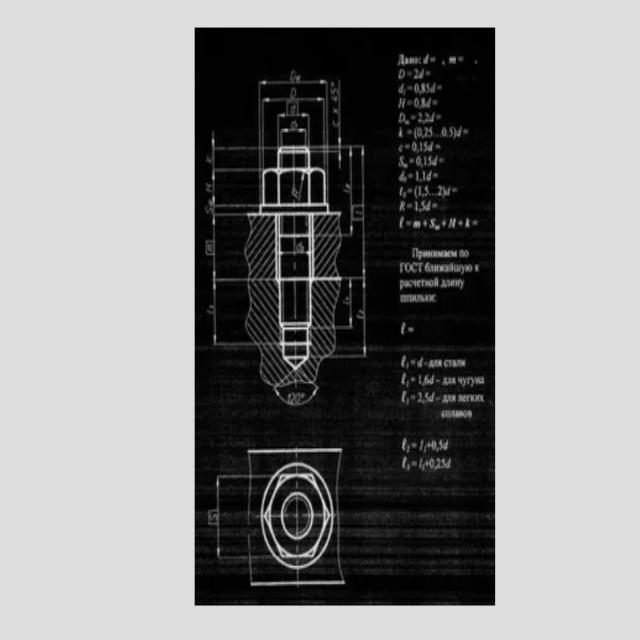marking_line: (343, 144, 367, 361), (258, 77, 329, 146), (262, 94, 326, 147), (215, 474, 247, 560), (212, 278, 246, 348), (211, 213, 245, 280), (312, 81, 345, 149), (208, 132, 259, 172), (210, 168, 259, 209), (276, 372, 320, 406), (276, 111, 310, 144), (344, 146, 353, 239), (342, 275, 355, 330), (281, 121, 307, 146), (309, 150, 343, 167), (298, 173, 304, 202), (281, 251, 309, 256)
numeric: (429, 218, 436, 230), (416, 392, 423, 403), (423, 127, 429, 139), (441, 126, 447, 138), (413, 200, 419, 212), (422, 185, 428, 196), (423, 140, 428, 153), (430, 456, 435, 469), (424, 83, 430, 93), (412, 141, 417, 153), (429, 126, 434, 138), (416, 155, 421, 167), (437, 185, 442, 197), (420, 200, 425, 212), (432, 439, 437, 451), (442, 457, 447, 469), (436, 456, 441, 468), (291, 391, 296, 403), (415, 82, 420, 93), (414, 97, 419, 108), (418, 112, 423, 123), (417, 127, 422, 138), (296, 392, 301, 403), (425, 374, 429, 386), (439, 439, 443, 451), (422, 99, 427, 108), (414, 68, 418, 79), (425, 112, 429, 123), (449, 126, 453, 137), (418, 185, 422, 196), (452, 218, 456, 229), (206, 181, 213, 187), (422, 171, 426, 181), (448, 218, 452, 228), (420, 141, 423, 153), (428, 154, 431, 166), (419, 374, 422, 386), (421, 462, 425, 471), (426, 392, 429, 403), (424, 153, 426, 168), (206, 188, 212, 193), (422, 84, 425, 93), (424, 445, 427, 453), (416, 171, 418, 182), (288, 393, 291, 400)
special_symbol: (409, 357, 417, 366), (411, 460, 419, 468), (406, 69, 413, 78), (406, 84, 413, 92), (432, 100, 440, 107), (435, 142, 442, 150), (439, 156, 446, 164), (432, 202, 439, 210), (409, 156, 415, 165), (407, 127, 413, 136), (463, 127, 469, 136), (408, 326, 415, 333), (411, 442, 417, 450), (407, 201, 413, 209), (407, 187, 413, 195), (407, 98, 413, 106), (451, 187, 459, 193), (405, 143, 411, 150), (436, 84, 443, 90), (433, 171, 439, 178), (411, 375, 416, 383), (408, 172, 413, 180), (414, 127, 417, 140), (406, 221, 412, 227), (410, 114, 416, 120), (436, 114, 442, 120), (411, 393, 416, 400), (426, 71, 432, 76)
